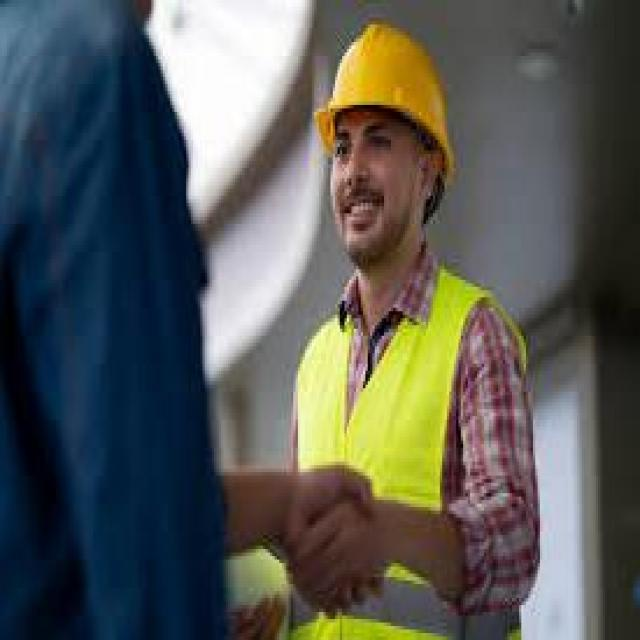Reflective-Jacket: (272, 276, 533, 633)
Safety-Helmet: (314, 18, 463, 178)
